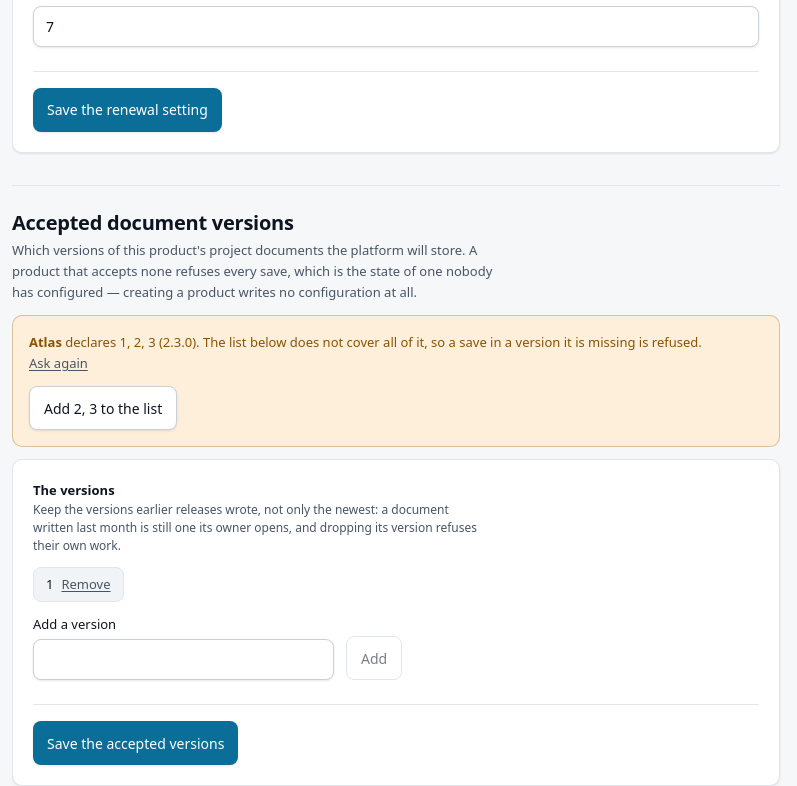
Test: what the product says about itself › stops offering what is already in the list, so pressing twice cannot duplicate it
The image size is (797, 786).
(page scrolled)
Step 1. Click the button with test id "adopt-declared-versions" → point(103, 408), box [29,386,177,430]
(page scrolled)
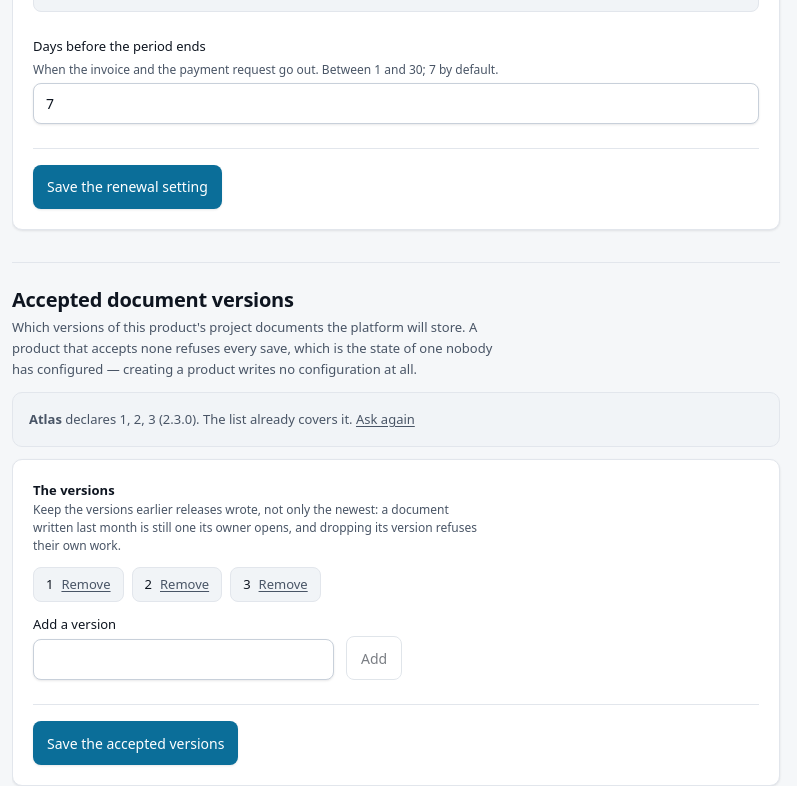
Expected: the button with test id "adopt-declared-versions" is gone
